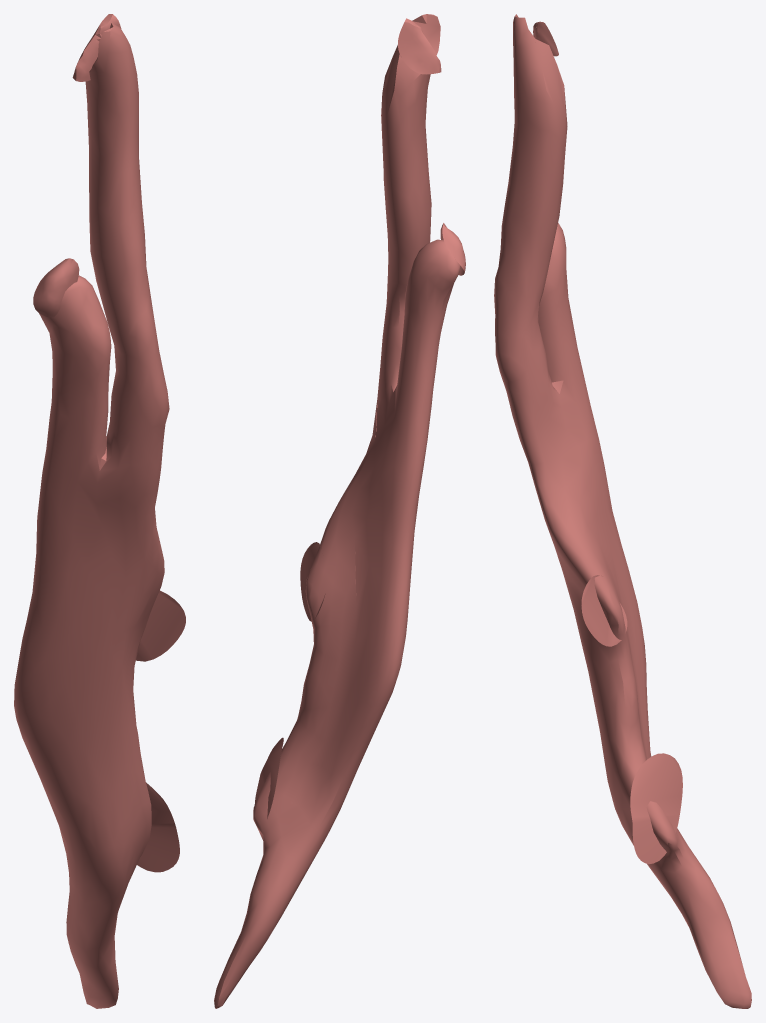
The model's file is fma46287_mm1296m.glb.
3 renders of one model, left to right at view 1: azimuth 30°, elevation 25°; view 2: azimuth 150°, elevation 25°; view 3: azimuth 270°, elevation 25°, orthographic. The views are drawn at different scales.
Visible parts, largest first — view 1: FMA46287_MM1296M; view 2: FMA46287_MM1296M; view 3: FMA46287_MM1296M.
Part boxes in pixels (x1=…): FMA46287_MM1296M: x1=14, y1=14, x2=185, y2=1008; FMA46287_MM1296M: x1=214, y1=14, x2=465, y2=1008; FMA46287_MM1296M: x1=494, y1=14, x2=751, y2=1008.
Size of the model in its own units: 0.0182 by 0.098 by 0.0242.
